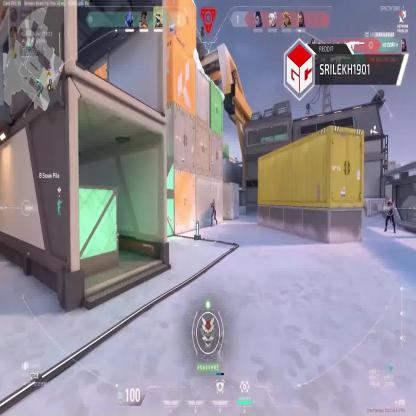enemy: (385, 199, 396, 234), (210, 198, 218, 225)
enemy_head: (388, 198, 394, 206), (212, 199, 216, 204)
